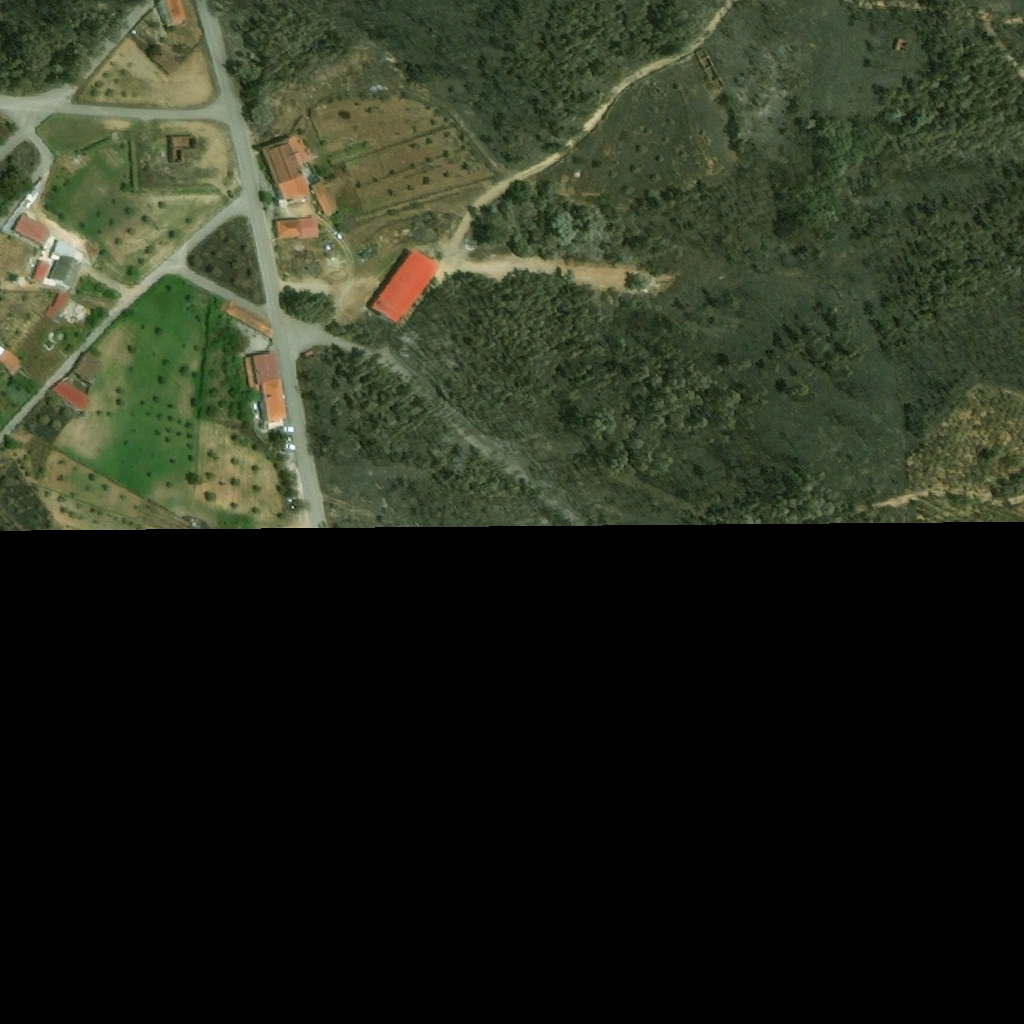0 no-damage: (369, 245, 441, 326), (48, 239, 87, 290), (224, 301, 274, 338), (264, 143, 302, 183), (50, 378, 90, 414), (13, 213, 49, 244), (261, 380, 288, 421), (73, 352, 105, 384), (310, 180, 336, 216), (40, 292, 70, 323), (251, 352, 279, 383), (288, 133, 314, 165), (279, 175, 310, 201), (0, 344, 26, 372), (165, 0, 187, 24), (275, 219, 300, 240), (243, 358, 258, 393), (299, 217, 319, 239), (266, 419, 288, 430)
1 minor-damage: (152, 49, 180, 75)
3 destroyed: (171, 135, 200, 165), (894, 37, 909, 53)
